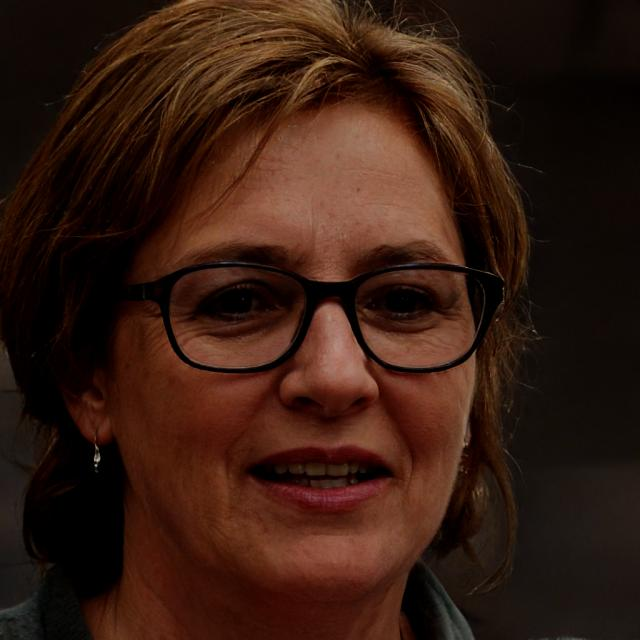lens: (169, 267, 307, 370), (355, 269, 488, 368)
